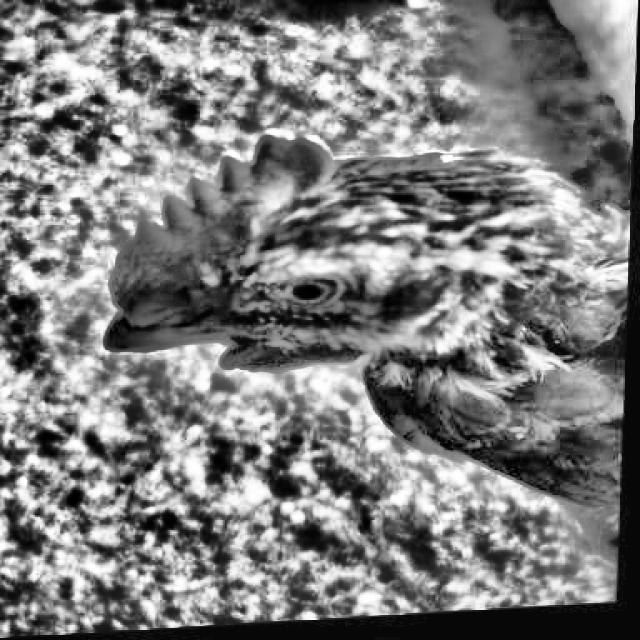Healthy: (272, 242, 356, 328)
